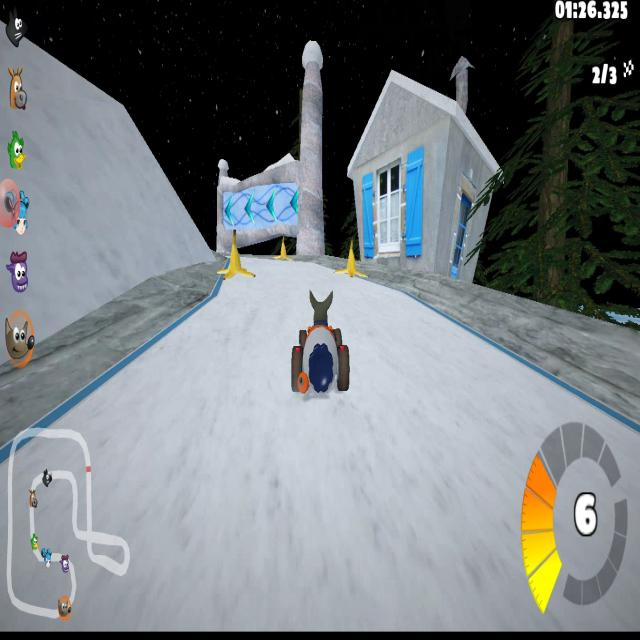obstacle: (216, 228, 257, 284), (339, 241, 365, 278), (273, 240, 292, 263)
player_kart: (278, 285, 362, 429)
